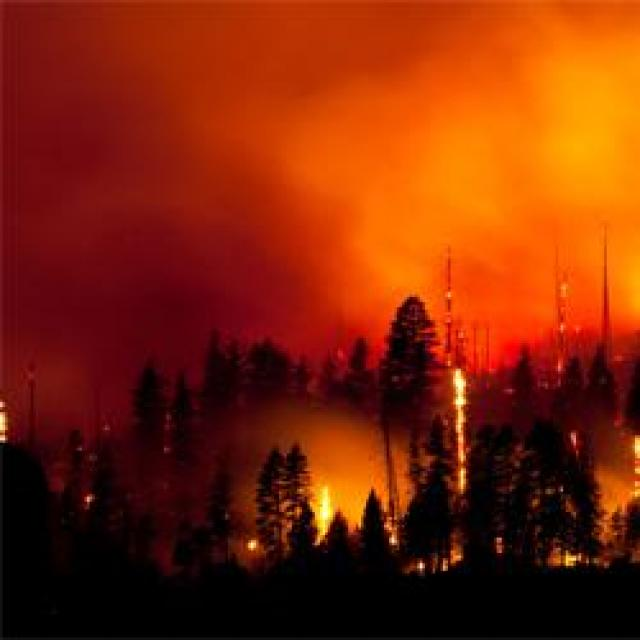fire: (450, 366, 473, 498), (314, 474, 336, 544)
smoke: (9, 126, 345, 370), (333, 0, 640, 218), (473, 222, 640, 353), (595, 458, 631, 506)
